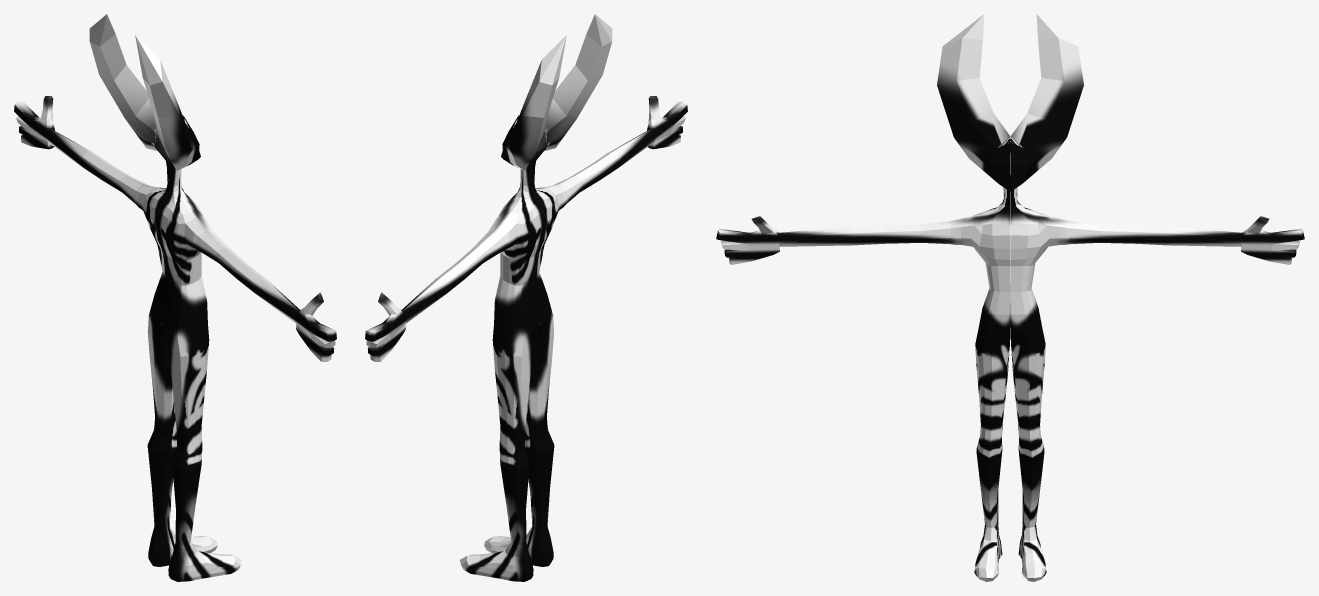
The model's file is Hollow.obj.
3 renders of one model, left to right at view 1: azimuth 30°, elevation 25°; view 2: azimuth 150°, elevation 25°; view 3: azimuth 270°, elevation 25°, orthographic. The views are drawn at different scales.
Parts seen in each view (by area): view 1: Hollow_creature_Cube; view 2: Hollow_creature_Cube; view 3: Hollow_creature_Cube.
Part boxes in pixels (<box>): Hollow_creature_Cube: <box>14,14,336,581</box>; Hollow_creature_Cube: <box>365,14,687,581</box>; Hollow_creature_Cube: <box>716,14,1304,581</box>.
Bounding box in the file's own units: 2.48 × 12.02 × 12.34.
